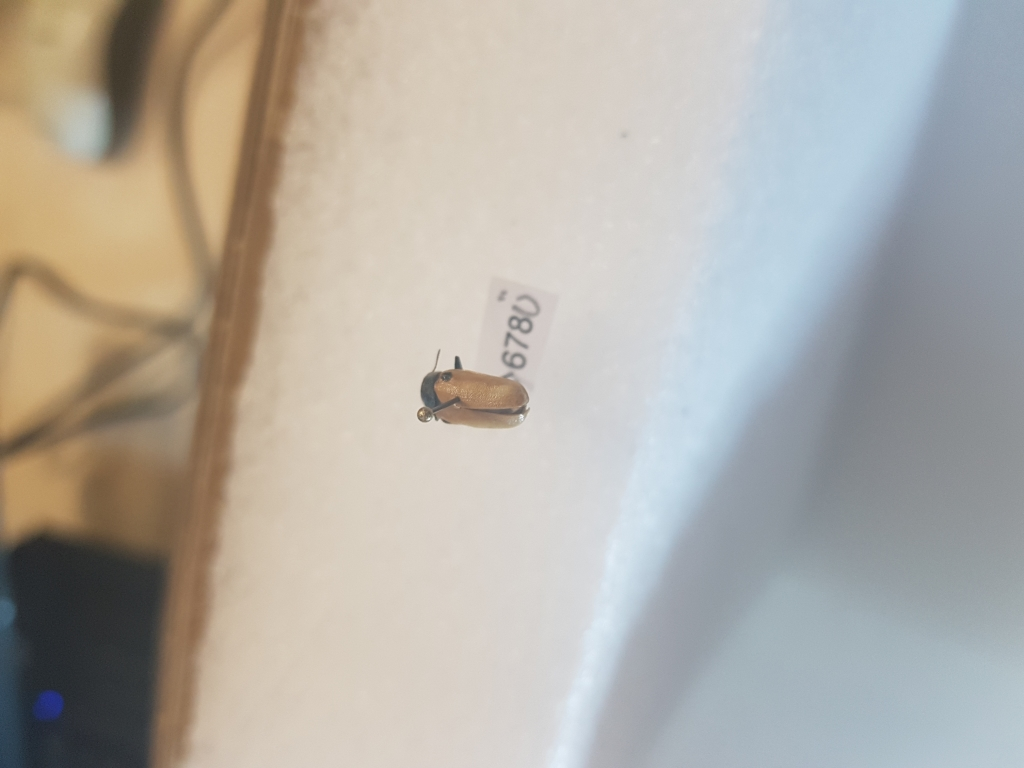Labidostomis_longimana: (419, 347, 538, 436)
